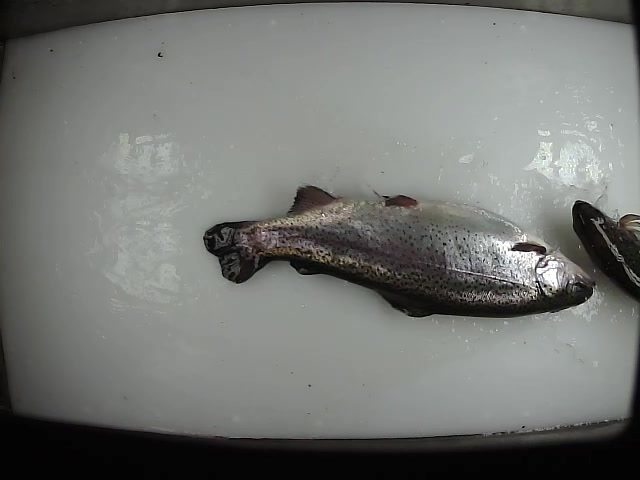Fish: (202, 186, 595, 318)
